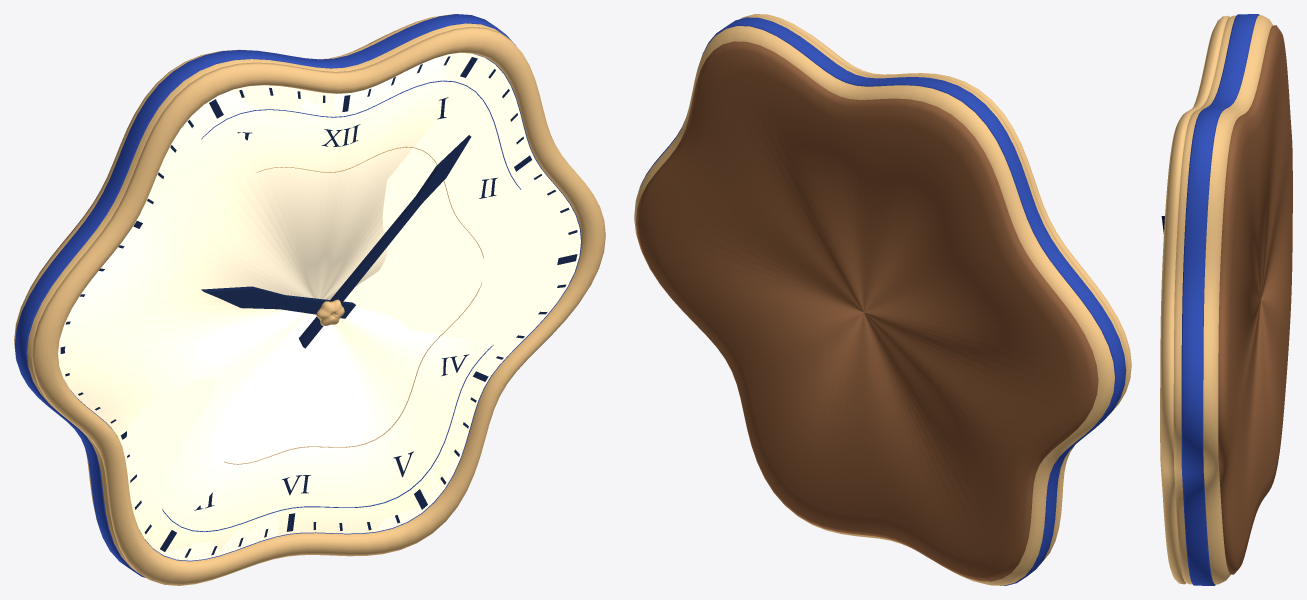
File: clock-3.glb
3 views of the same model, side by side, from view 1: azimuth 30°, elevation 25°; view 2: azimuth 150°, elevation 25°; view 3: azimuth 270°, elevation 25° (orthographic). The views are drawn at different scales.
Parts seen in each view (by area): view 1: Clock case and dial; view 2: Clock case and dial; view 3: Clock case and dial.
Part boxes in pixels (<box>): Clock case and dial: <box>14,14,605,585</box>; Clock case and dial: <box>634,14,1131,585</box>; Clock case and dial: <box>1160,14,1292,585</box>.
Bounding box in the file's own units: 1.03 × 0.9247 × 0.2265.
